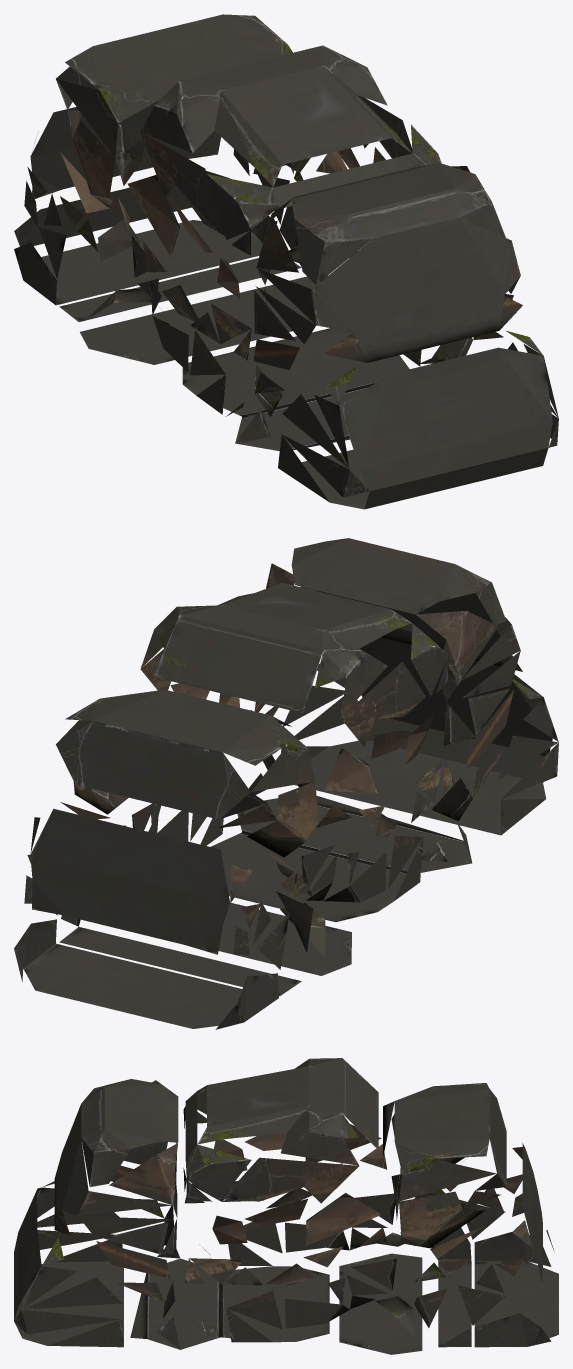
The model's file is rocks_large_LOD2.glb.
3 renders of one model, top to bottom at view 1: azimuth 30°, elevation 25°; view 2: azimuth 150°, elevation 25°; view 3: azimuth 270°, elevation 25°, orthographic. The views are drawn at different scales.
Parts seen in each view (by area): view 1: rocks_large_LOD2; view 2: rocks_large_LOD2; view 3: rocks_large_LOD2.
Boxes of the visible parts, <box> form: rocks_large_LOD2: <box>14,14,558,509</box>; rocks_large_LOD2: <box>14,538,558,1029</box>; rocks_large_LOD2: <box>14,1058,558,1354</box>.
Bounding box in the file's own units: 0.4403 × 0.4422 × 0.9999.
Materials: 1 (1 with a texture image).
